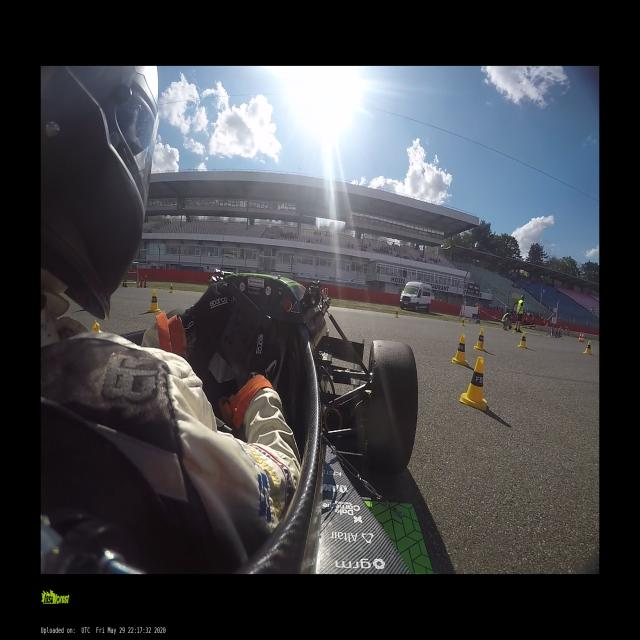yellow_cone: (462, 358, 488, 408), (452, 334, 468, 366), (473, 328, 486, 353), (149, 289, 160, 311), (91, 321, 106, 334), (518, 331, 528, 349), (582, 340, 592, 356), (169, 283, 174, 293), (394, 309, 398, 318), (461, 319, 465, 327), (513, 327, 516, 333)
